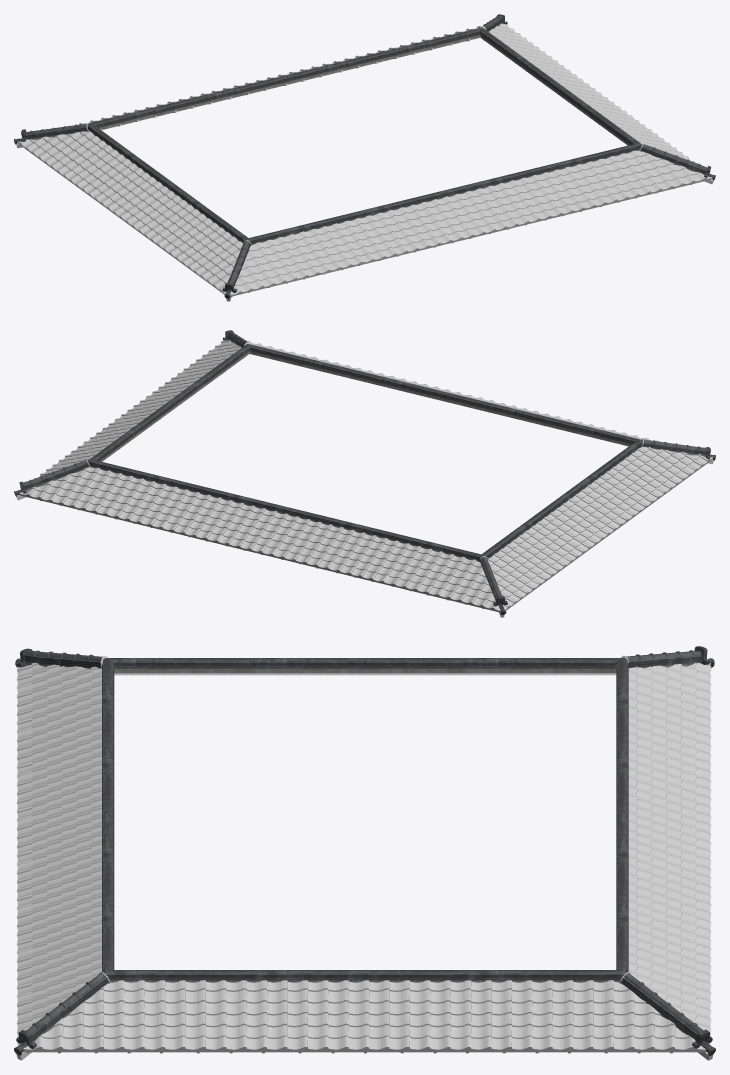
The model's file is SM_KYT_Roof1F_B_M1.fbx.
The picture shows the model from 3 angles, top to bottom: view 1: azimuth 30°, elevation 25°; view 2: azimuth 150°, elevation 25°; view 3: azimuth 270°, elevation 25°; orthographic projection. The views are drawn at different scales.
Visible parts, largest first — view 1: SM_KYT_Roof1F_B_M1_LOD0; view 2: SM_KYT_Roof1F_B_M1_LOD0; view 3: SM_KYT_Roof1F_B_M1_LOD0.
Boxes of the visible parts, x1,y1,x2,y2 form: SM_KYT_Roof1F_B_M1_LOD0: (14,14,715,301); SM_KYT_Roof1F_B_M1_LOD0: (14,330,715,617); SM_KYT_Roof1F_B_M1_LOD0: (14,646,715,1060).
Bounding box in the file's own units: 1067 × 807 × 66.9.
